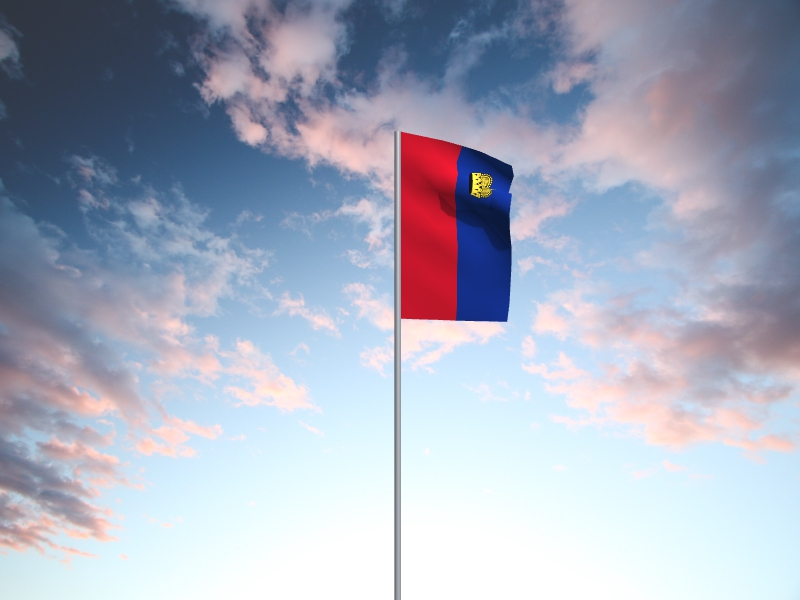li: (402, 133, 516, 323)
